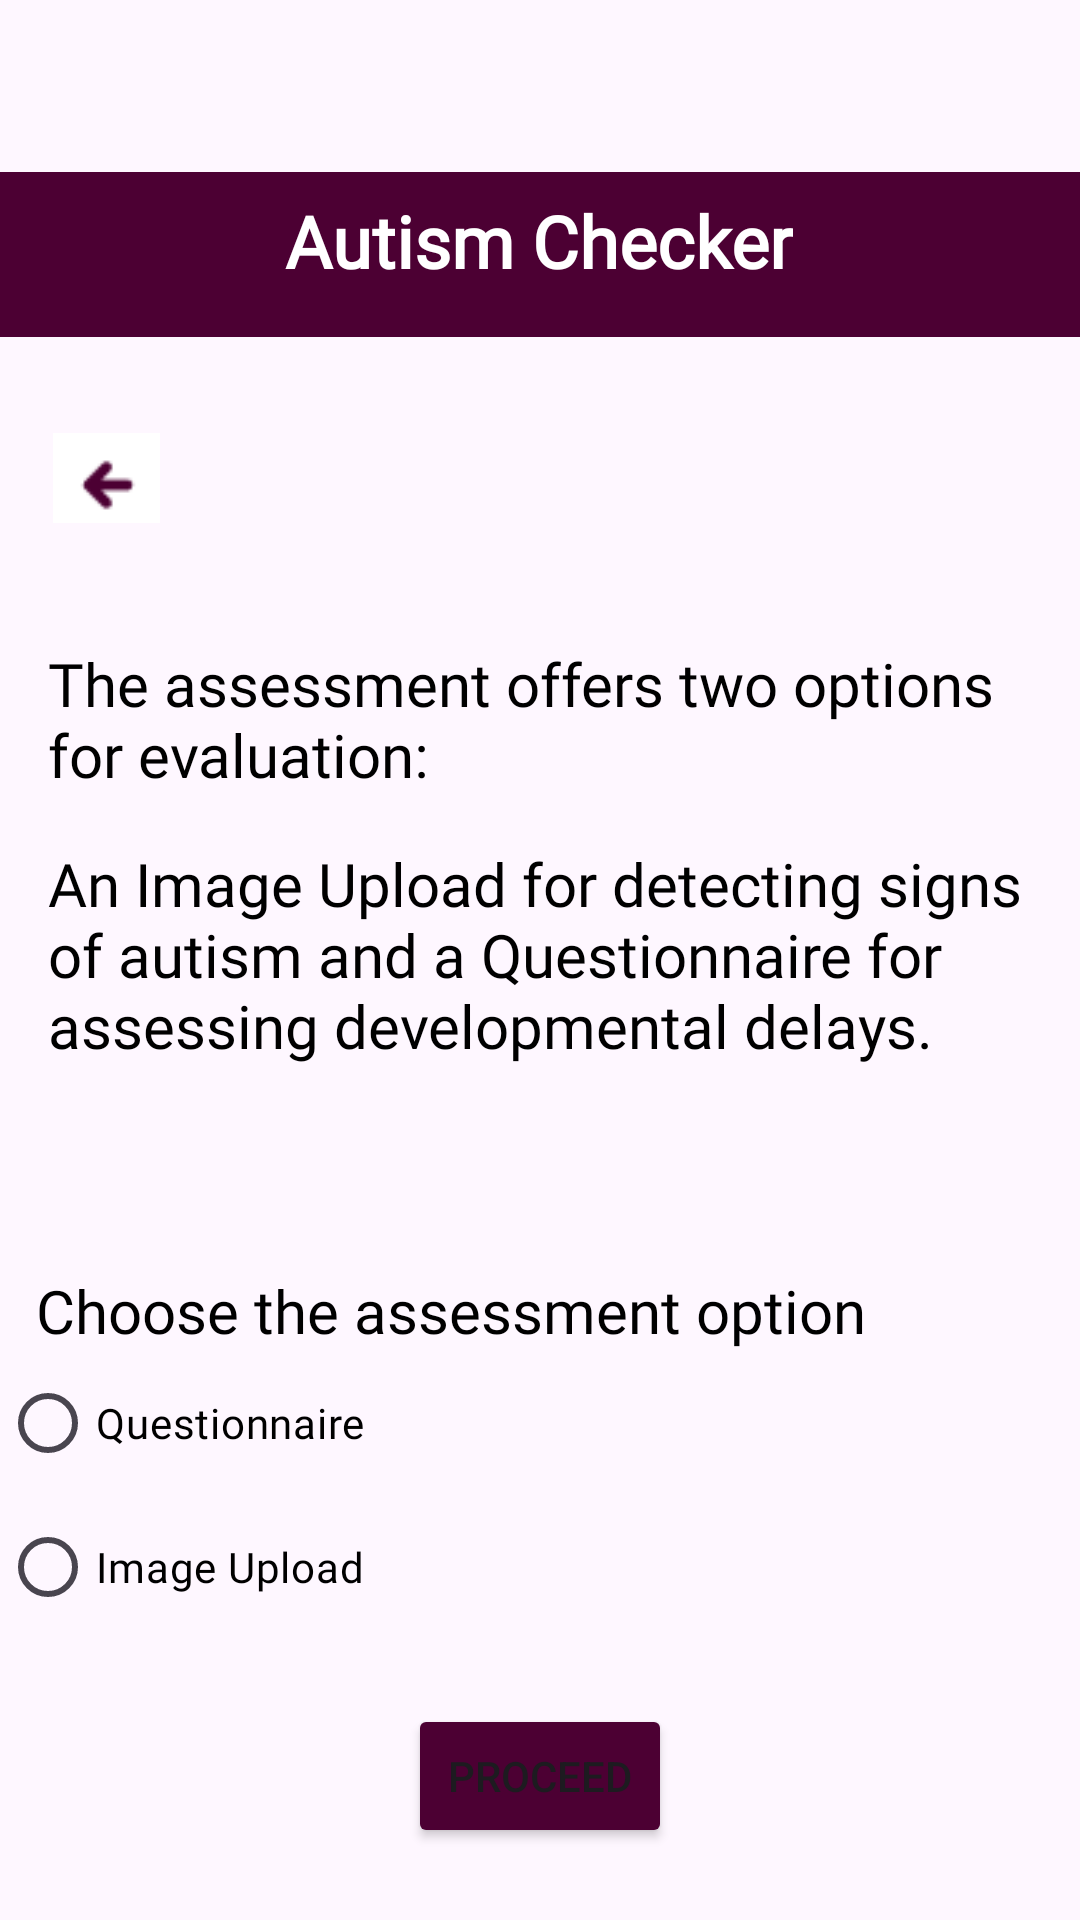

Point at icon controls on the screen. Image size 1080px x 1920px, points as point (x, y).
backarrow: point (108, 485)
